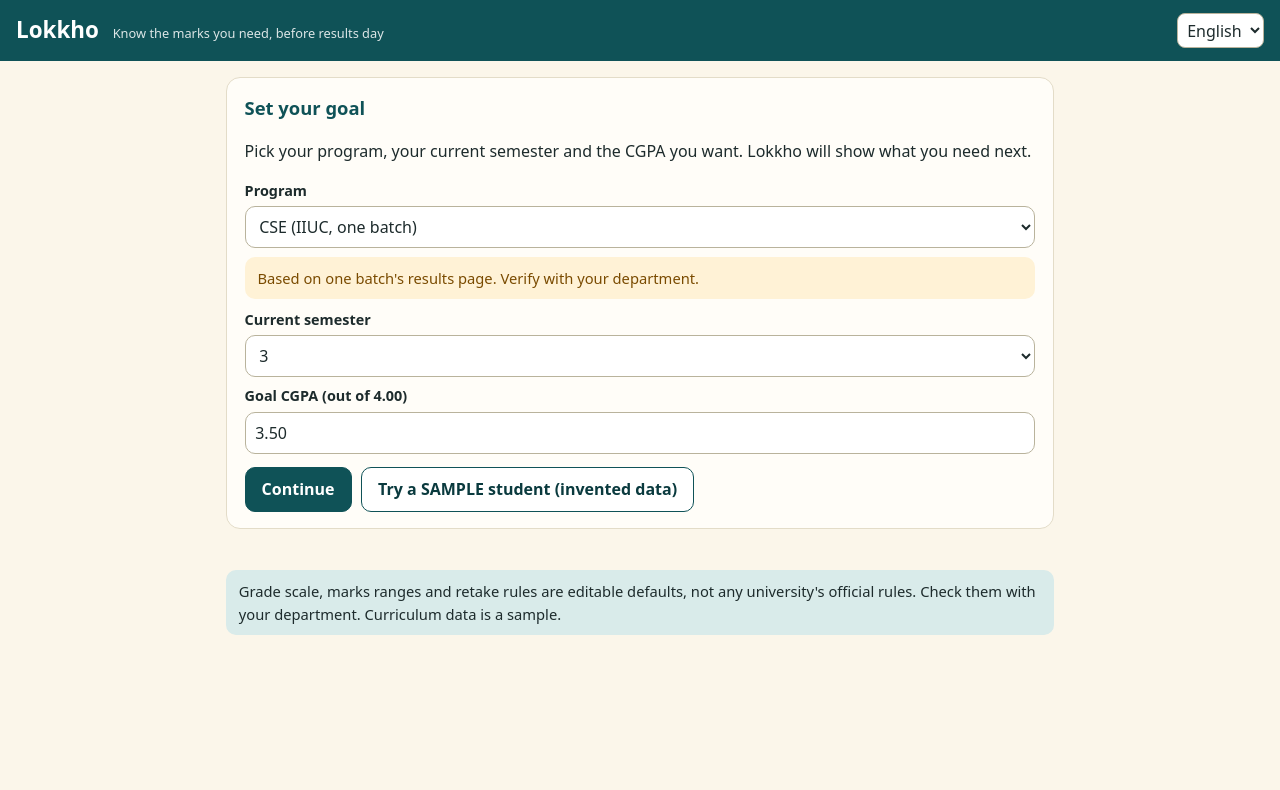
Test case: Advisor UI › shows a clear error and keeps manual use possible when the AI fails
Click the button "Try a SAMPLE student (invented data)" at (528, 490), box left=361, top=467, right=694, bottom=512
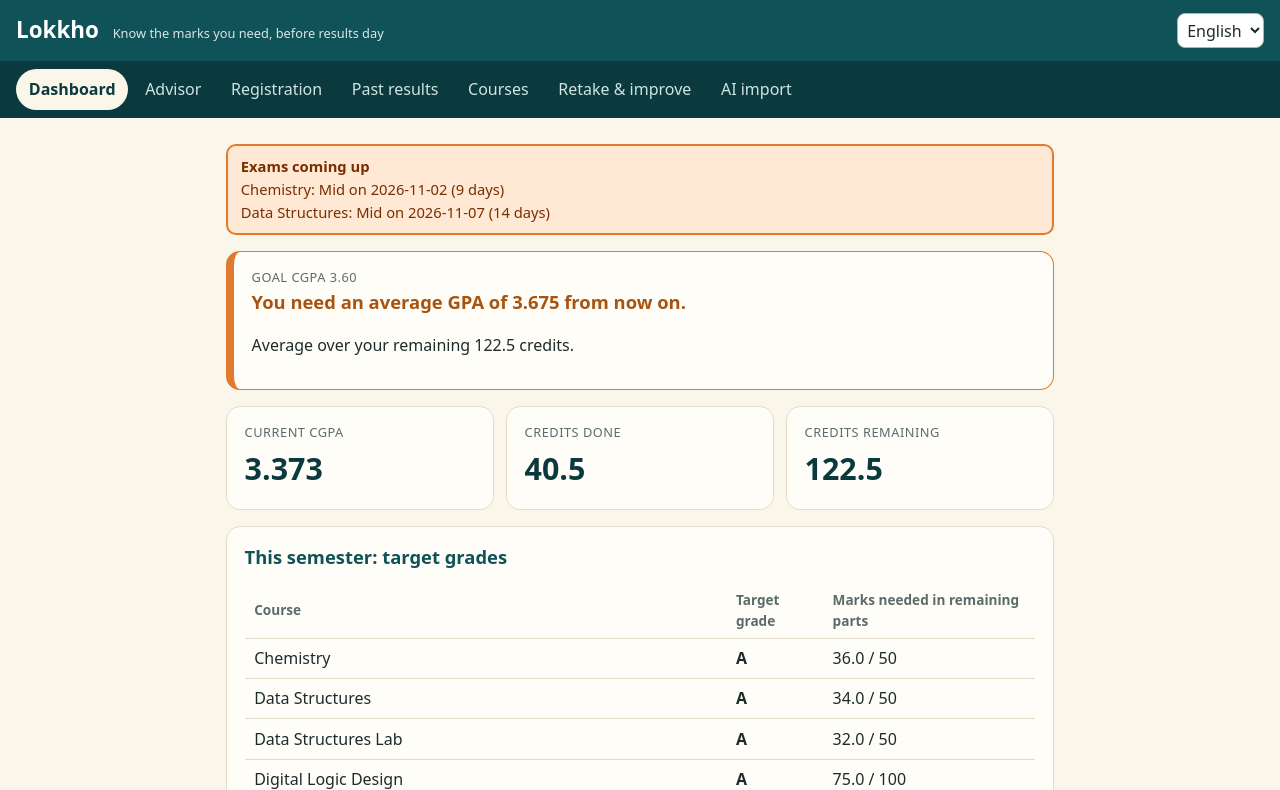
Click the button "Advisor" at (173, 90), box left=132, top=69, right=214, bottom=110
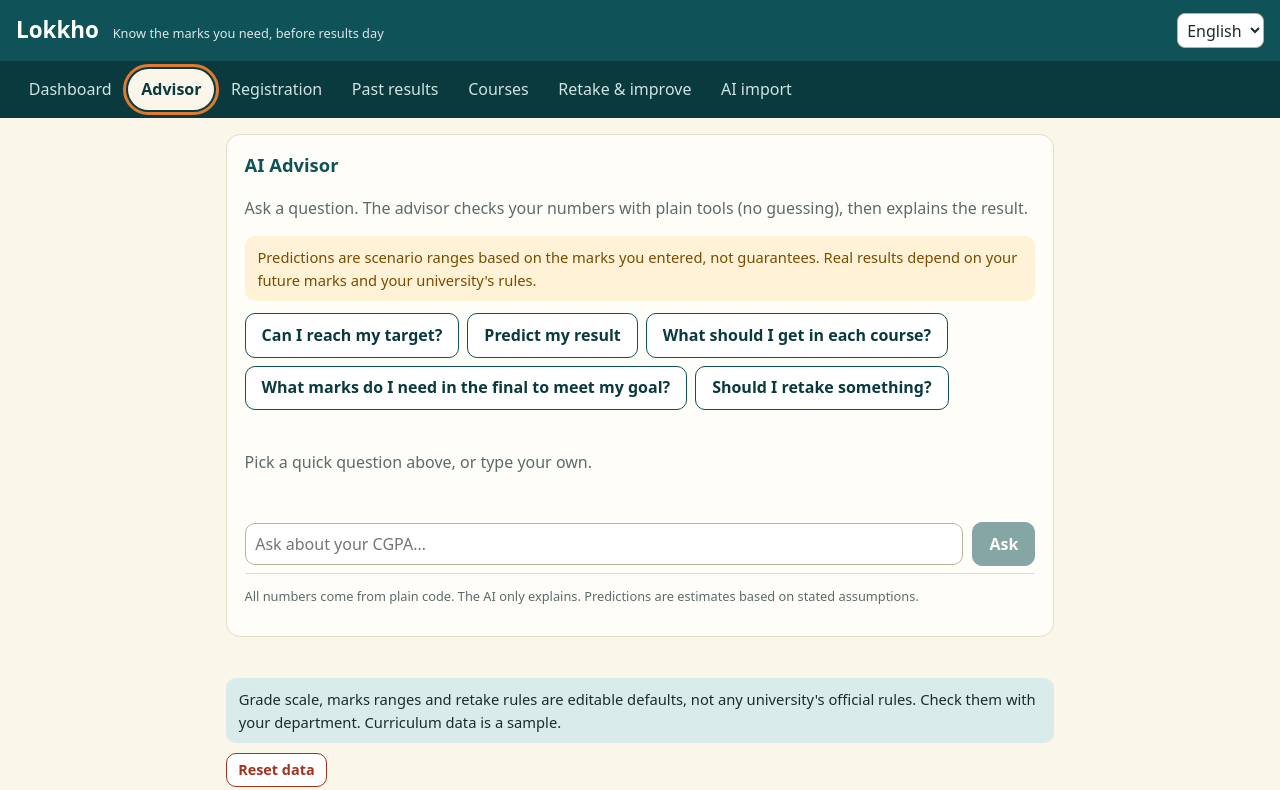
Click the button "Should I retake something?" at (822, 388), box left=695, top=366, right=949, bottom=410
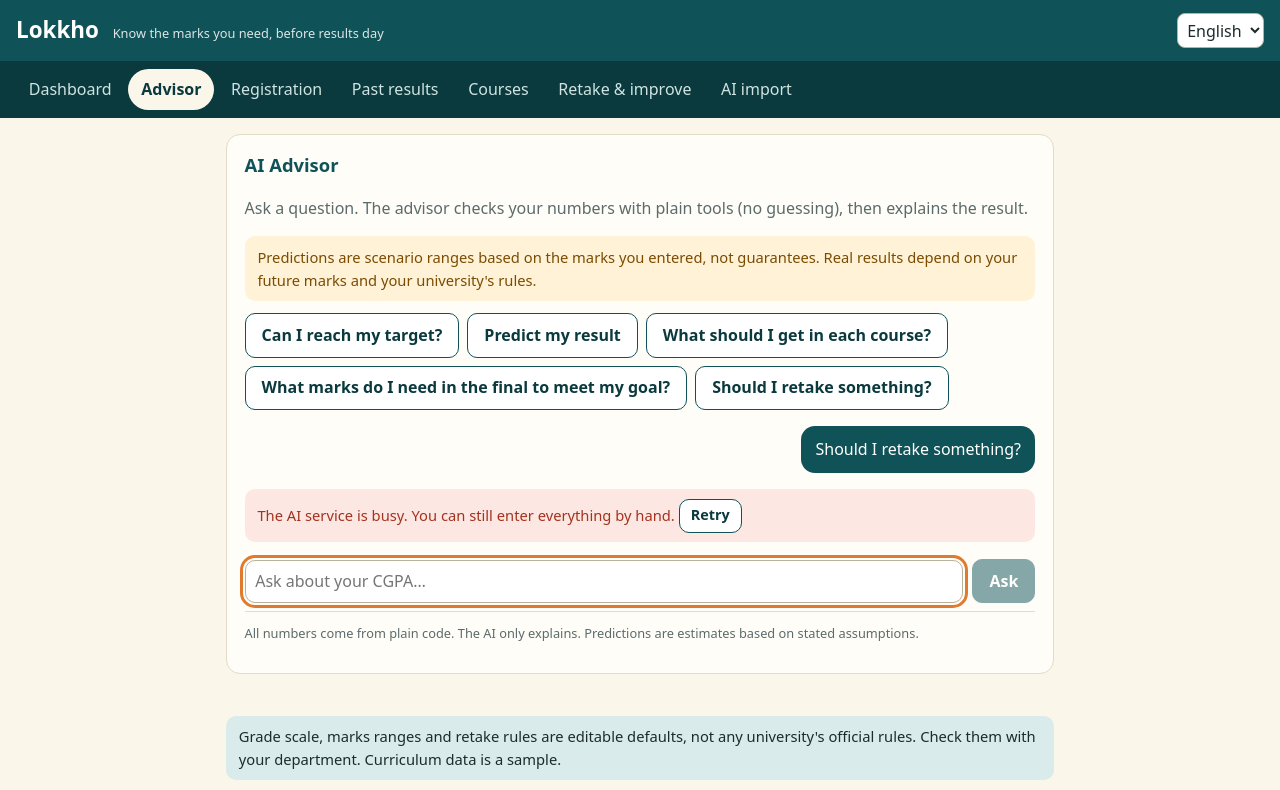
Expected: the text "The AI service is busy. You can still enter everything by hand. Retry" is shown, left=245, top=489, right=1035, bottom=542
